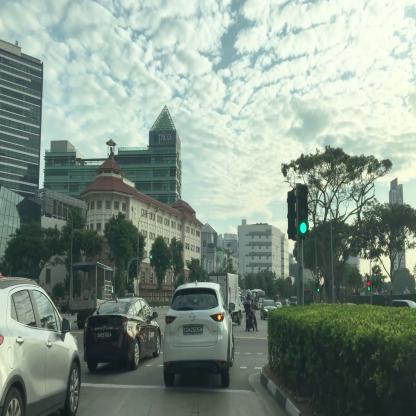green_traffic_light: (299, 188, 307, 236)
